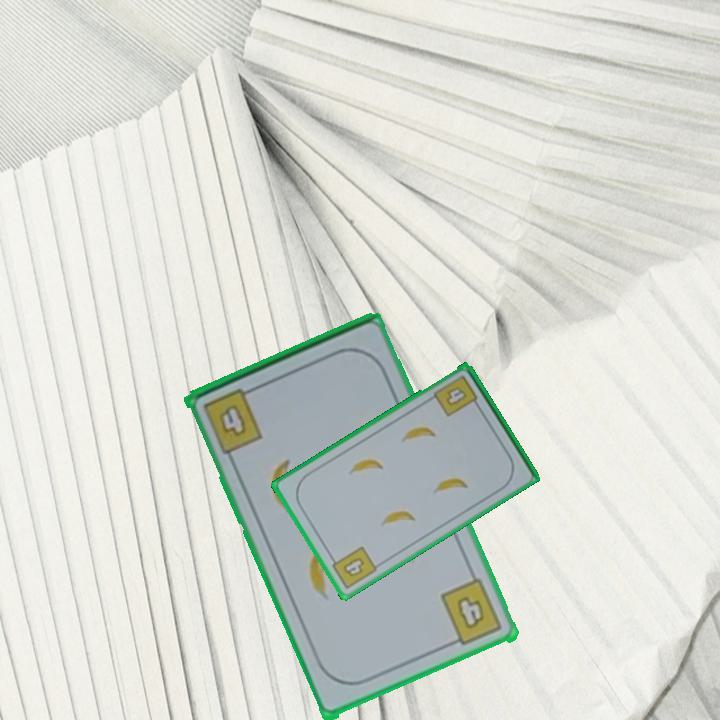4b: (437, 575, 506, 650), (200, 383, 266, 457), (326, 543, 380, 592), (430, 372, 483, 420)
